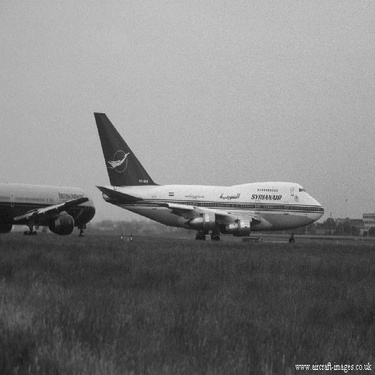airplane: (78, 102, 328, 254), (3, 172, 101, 249)
